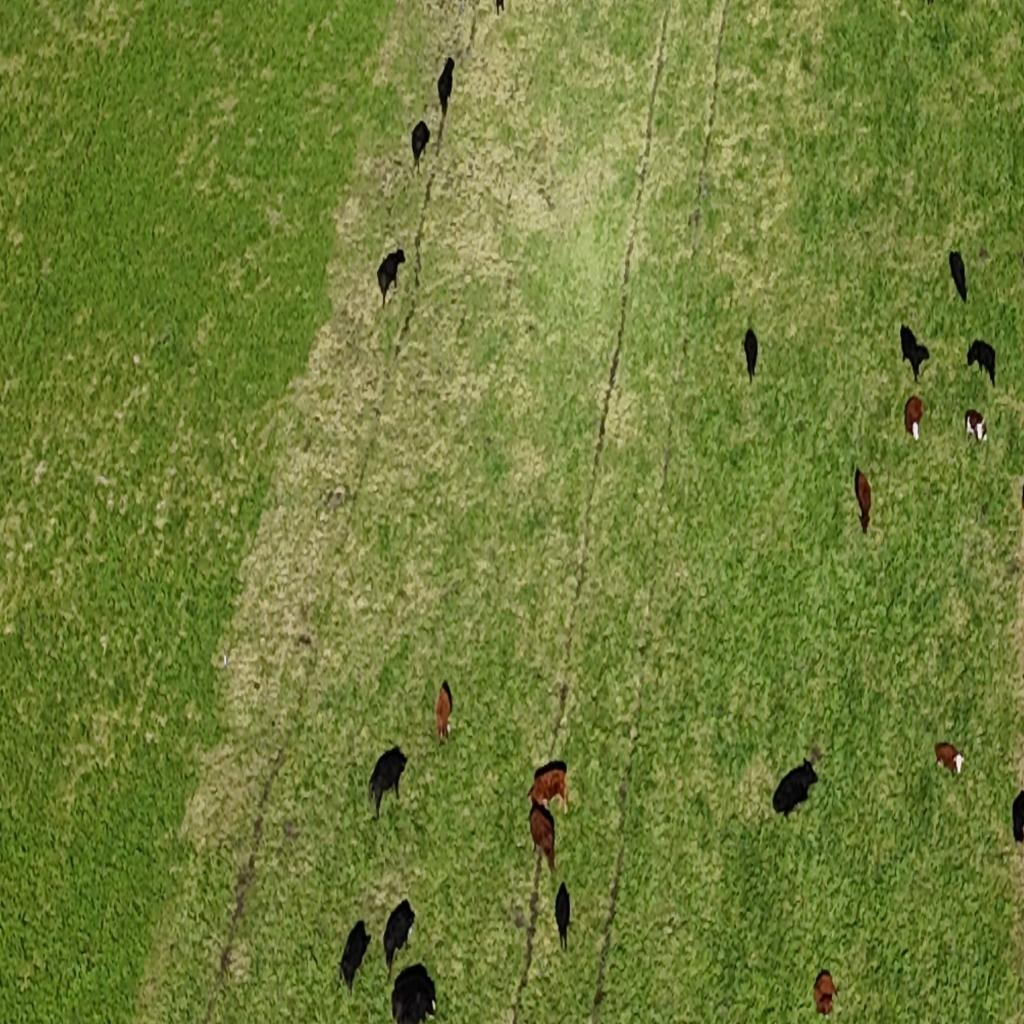cow: (367, 746, 408, 818), (773, 757, 820, 819), (338, 920, 372, 996), (526, 760, 570, 816), (383, 900, 417, 966), (528, 800, 556, 878), (392, 975, 435, 1024), (900, 323, 930, 382), (377, 247, 405, 305), (967, 339, 996, 389), (854, 466, 872, 534), (813, 970, 838, 1018), (934, 742, 966, 778), (554, 879, 570, 950), (437, 54, 455, 116), (434, 680, 450, 748), (949, 248, 968, 304), (411, 120, 430, 173), (904, 394, 924, 442), (964, 409, 988, 445), (743, 327, 758, 381), (1012, 791, 1024, 844)
